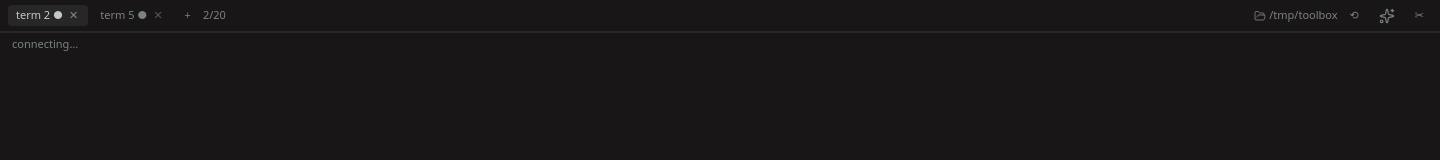
ChatRightSidebar terminal tab (Phase 4: multi-session) › numbers new sessions past restored labels (no duplicate chips)
The image size is (1440, 160).
Expected: the number of tabs with test id "terminal-session-chip" is 2, [8,5,88,26]; [92,5,173,26]
Click the button with test id "terminal-new".
click(188, 16)  # box [177,5,199,26]
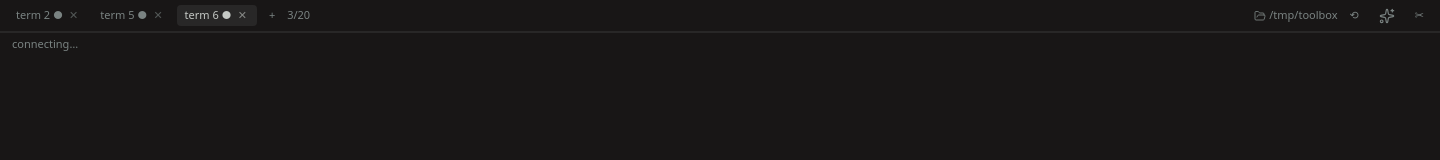
Expected: the number of tabs with test id "terminal-session-chip" is 3, [8,5,88,26]; [92,5,173,26]; [177,5,257,26]
